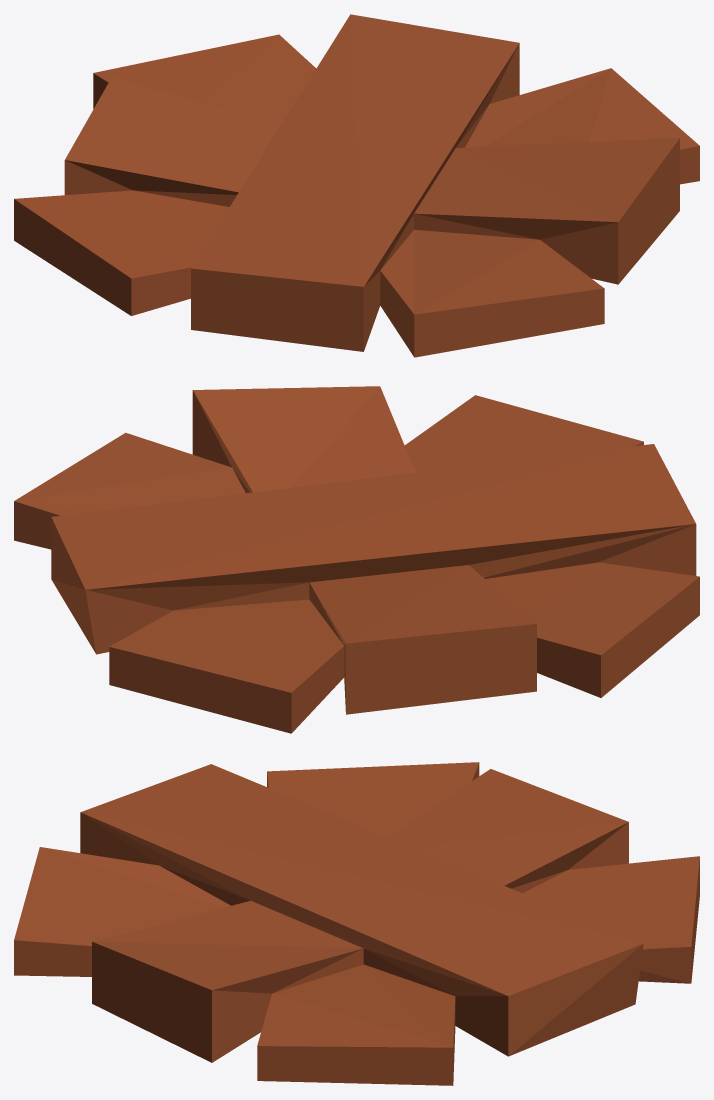
The model's file is Prop_Fantasy_Campfire_Wood_01.FBX.
The picture shows the model from 3 angles, top to bottom: view 1: azimuth 30°, elevation 25°; view 2: azimuth 150°, elevation 25°; view 3: azimuth 270°, elevation 25°; orthographic projection. The views are drawn at different scales.
Parts seen in each view (by area): view 1: Prop_Fantasy_Campfire_Wood_01; view 2: Prop_Fantasy_Campfire_Wood_01; view 3: Prop_Fantasy_Campfire_Wood_01.
Boxes of the visible parts, box(x1,y1,x2,y2) form: Prop_Fantasy_Campfire_Wood_01: box(14, 14, 699, 357); Prop_Fantasy_Campfire_Wood_01: box(14, 386, 699, 733); Prop_Fantasy_Campfire_Wood_01: box(14, 762, 699, 1085).
Bounding box in the file's own units: 710 × 86.82 × 726.
